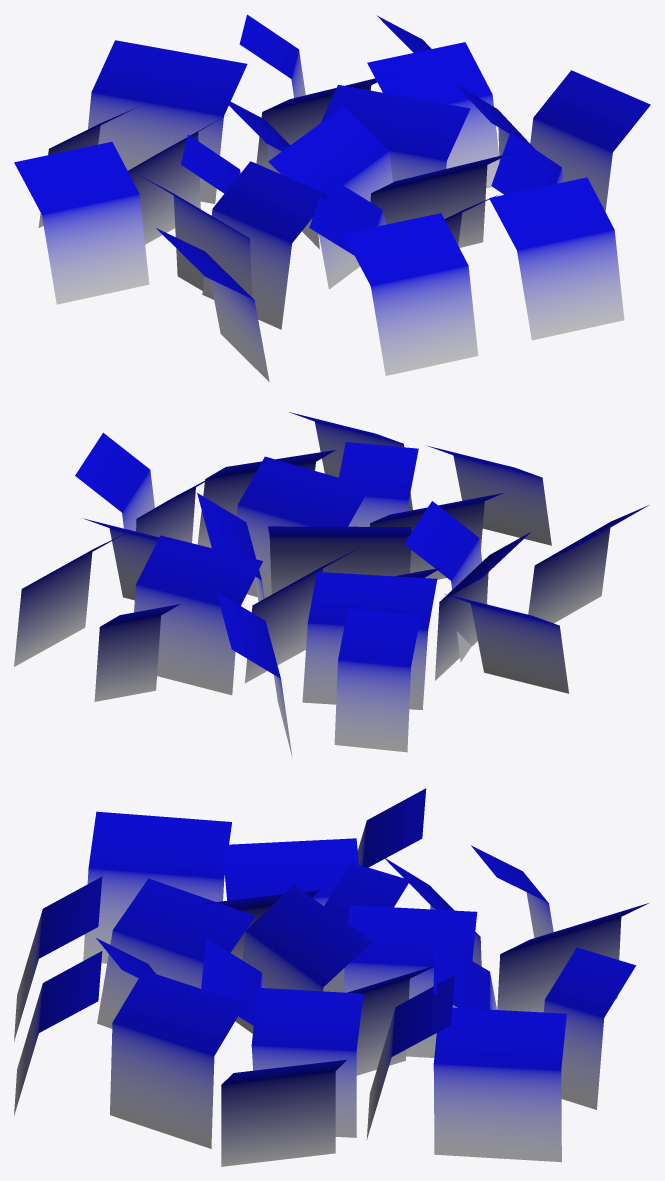
Rendered from SM_ground_vegetaion_b_6.FBX.
3 renders of one model, top to bottom at view 1: azimuth 30°, elevation 25°; view 2: azimuth 150°, elevation 25°; view 3: azimuth 270°, elevation 25°, orthographic. The views are drawn at different scales.
Parts seen in each view (by area): view 1: SM_ground_vegetaion_b_6_LOD0; view 2: SM_ground_vegetaion_b_6_LOD0; view 3: SM_ground_vegetaion_b_6_LOD0.
Boxes of the visible parts, bbox=[...] form: SM_ground_vegetaion_b_6_LOD0: bbox=[14, 14, 650, 381]; SM_ground_vegetaion_b_6_LOD0: bbox=[14, 412, 649, 756]; SM_ground_vegetaion_b_6_LOD0: bbox=[14, 788, 648, 1166].
Size of the model in its own units: 36.13 by 35.07 by 8.06.
